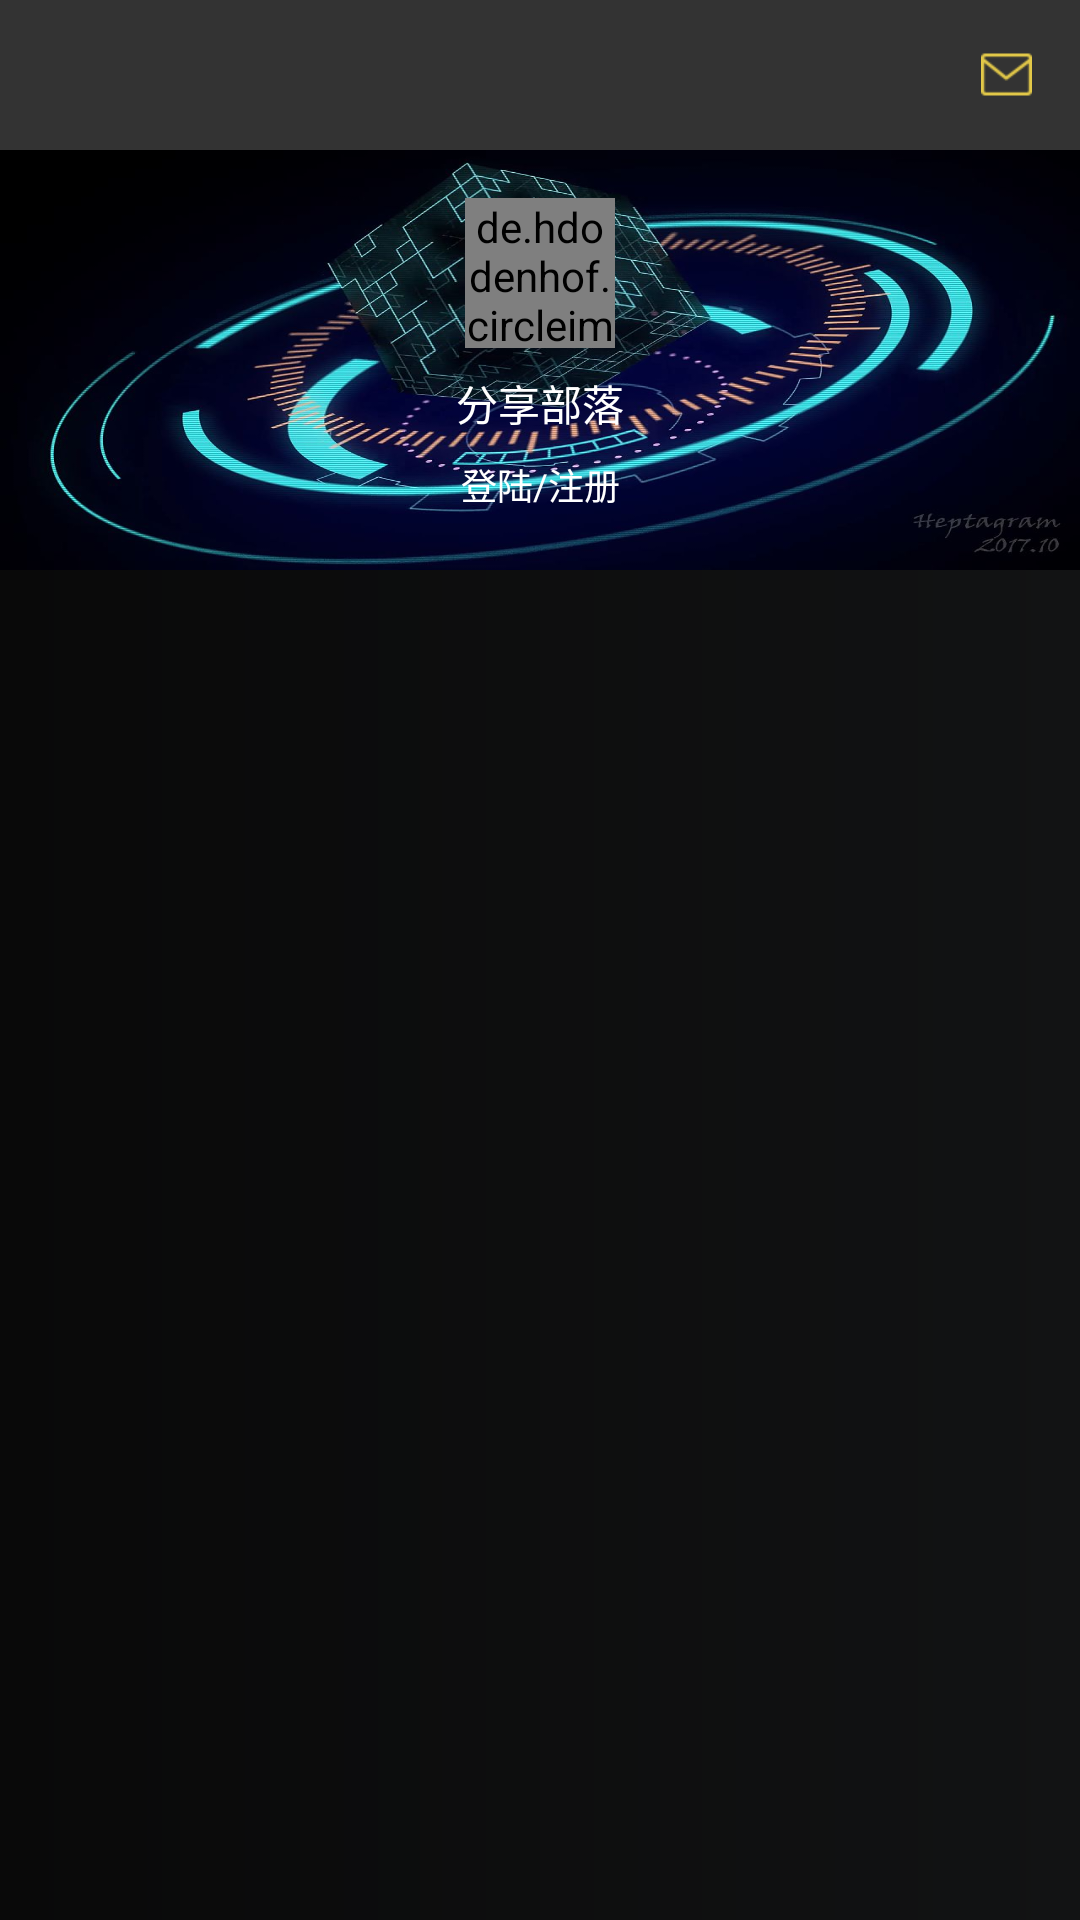

Locate icon controls on the screen. Image size 1080*1920, boxes as (x1, y1, x2, y2).
message: (981, 53, 1032, 96)
